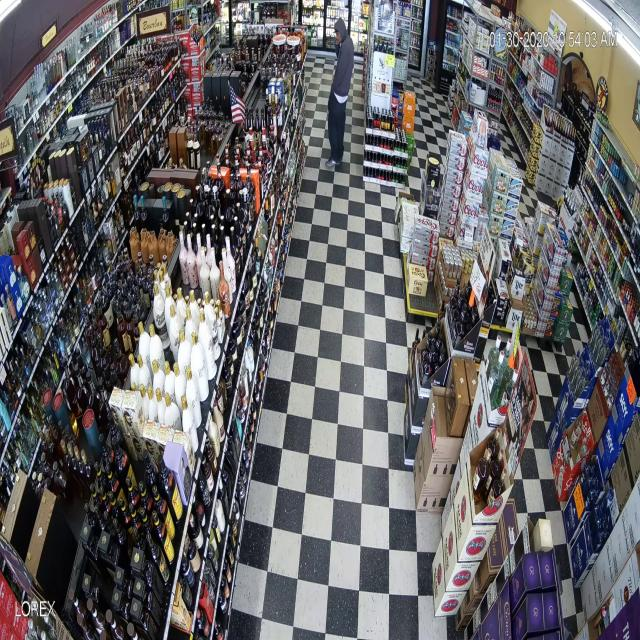normal: (304, 1, 375, 176)
